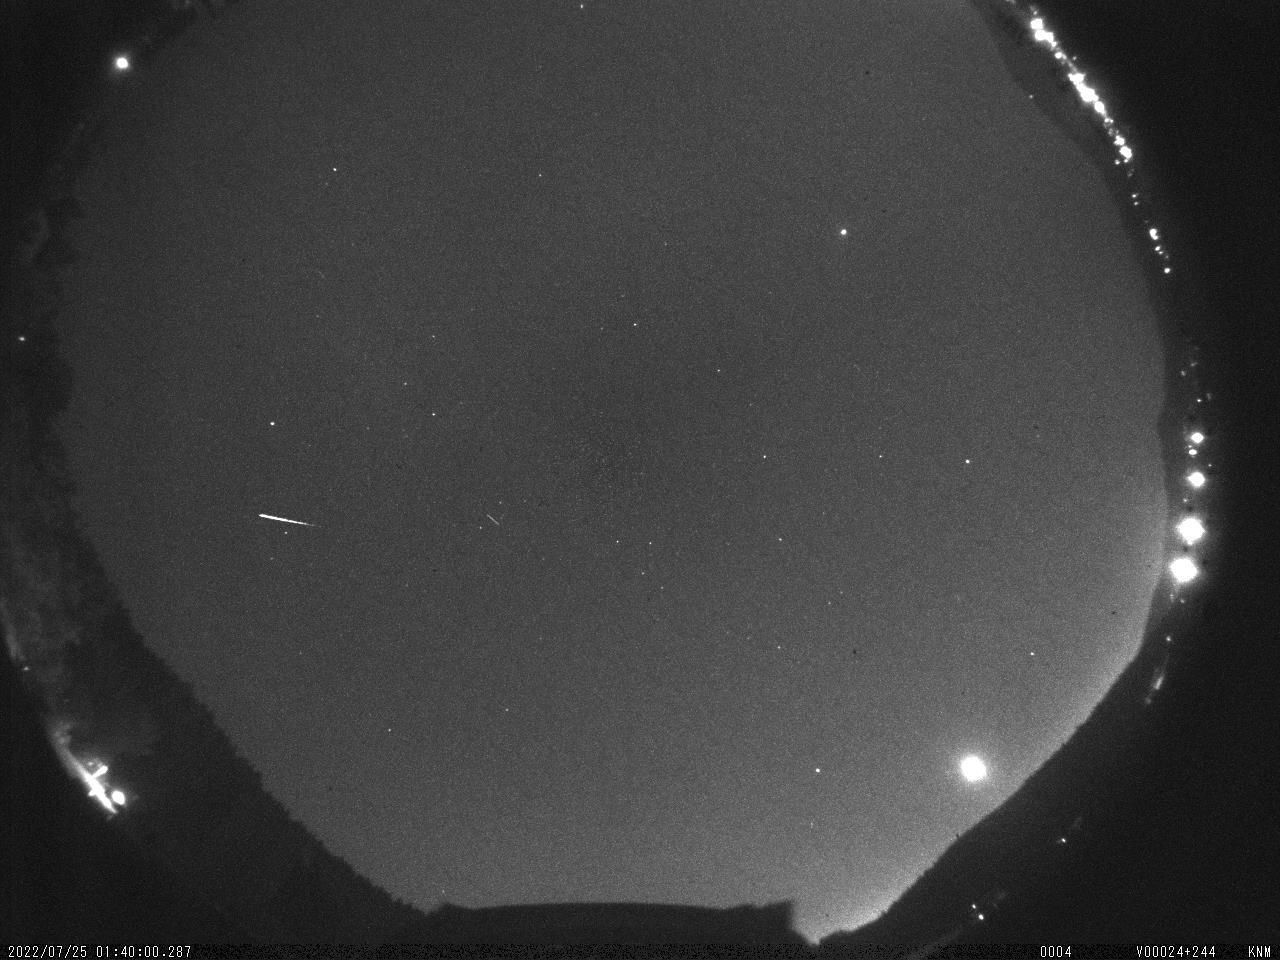Meteor: (252, 508, 322, 532)
